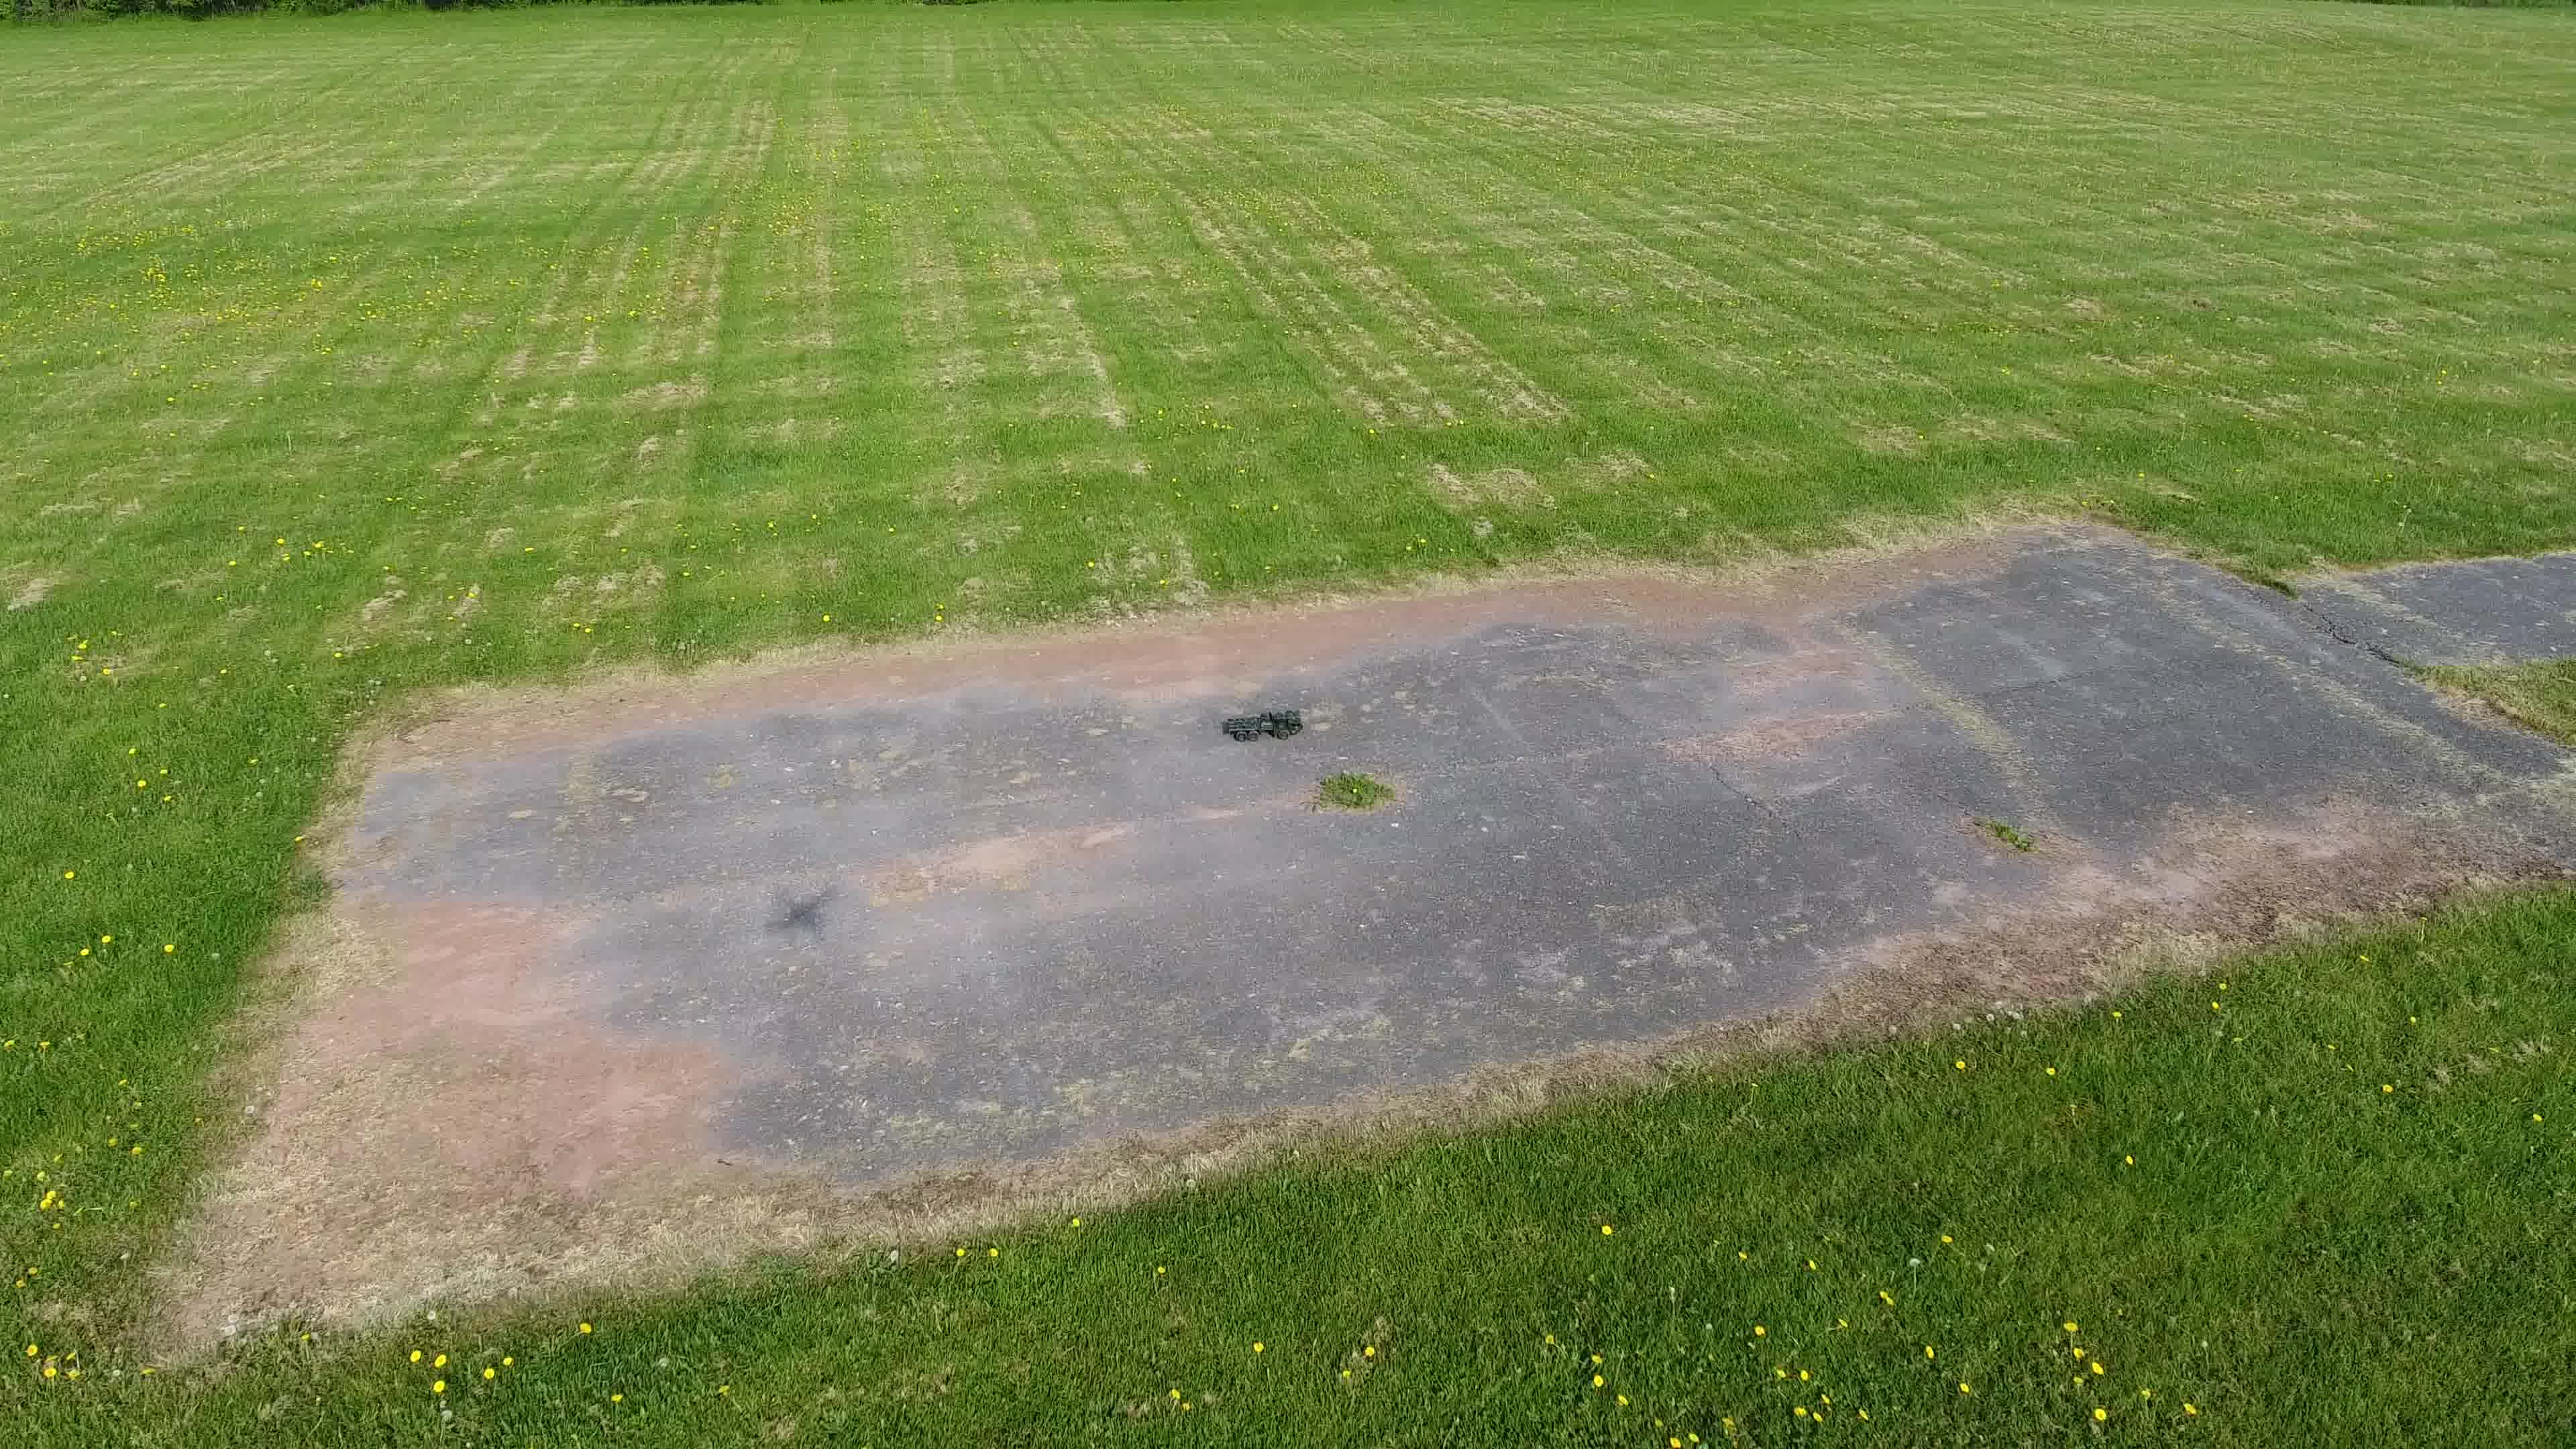transporter9: (1221, 706, 1304, 743)
